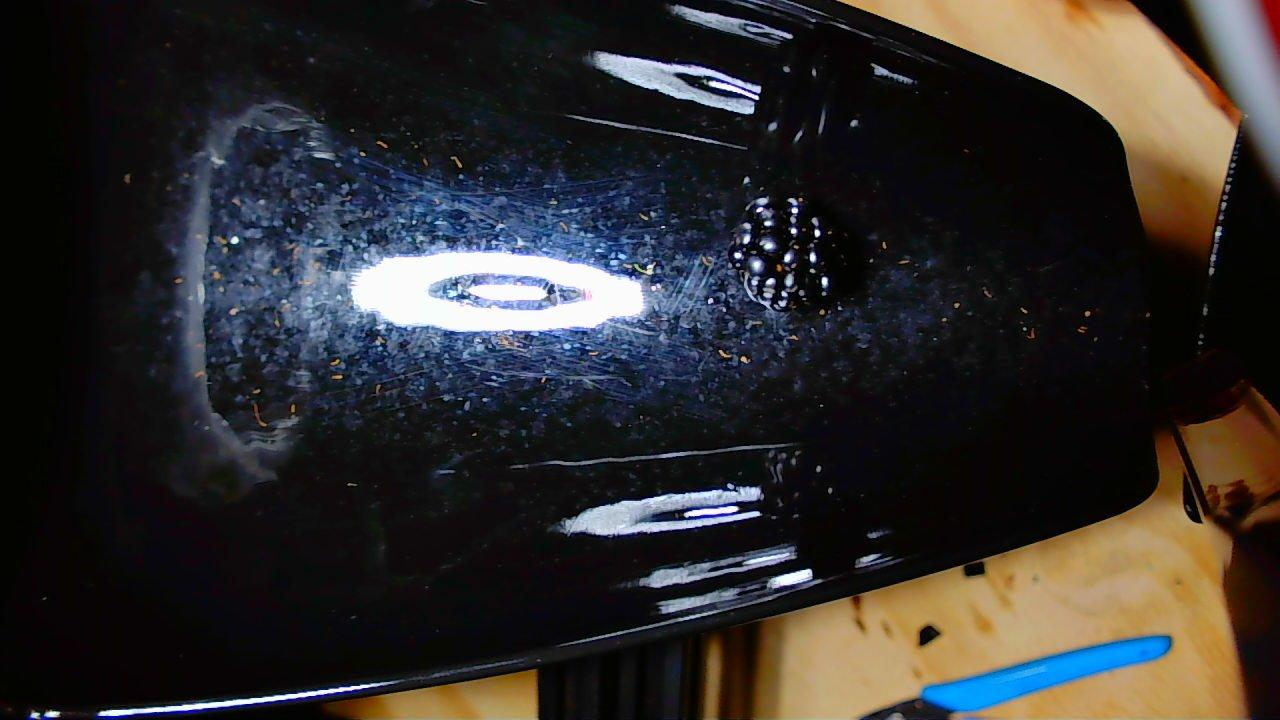berry: (731, 197, 830, 309)
